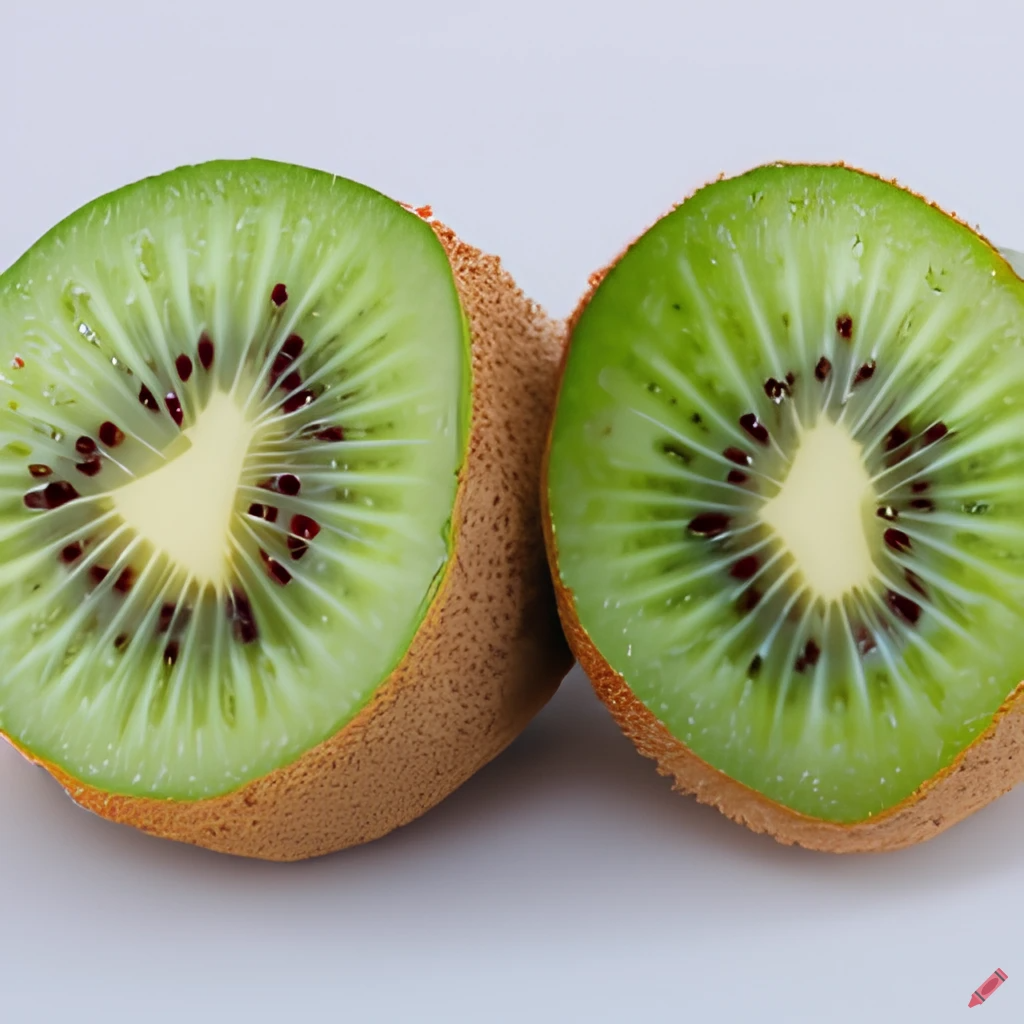Kiwi: (0, 126, 587, 870)
